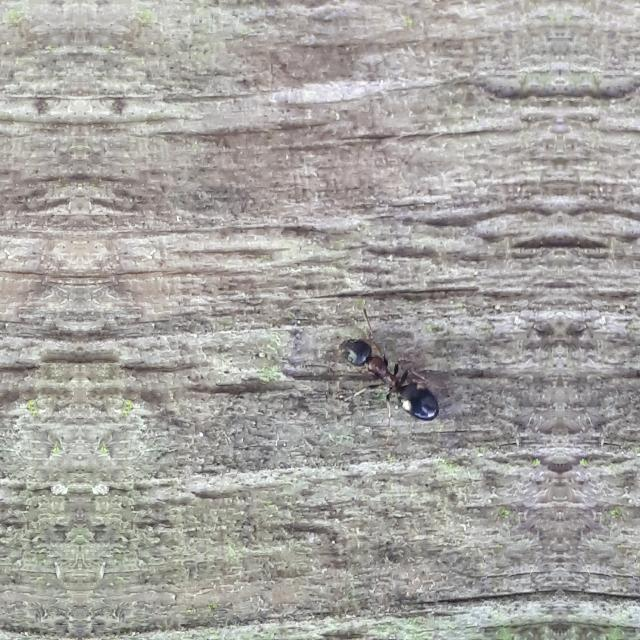Dolichoderus: (328, 310, 462, 440)
